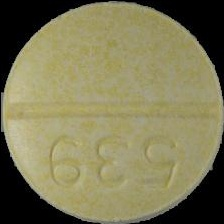76237-129: (0, 0, 224, 224)
